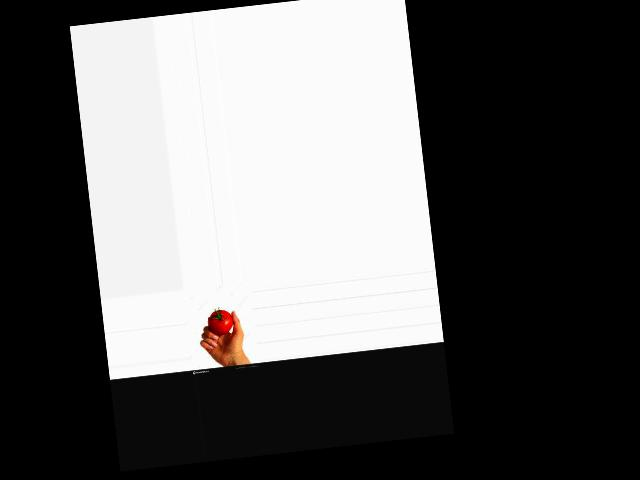tomato: (207, 308, 234, 336)
